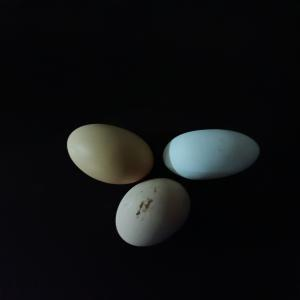Egg: (66, 114, 161, 191), (157, 124, 268, 189), (122, 172, 199, 256)
